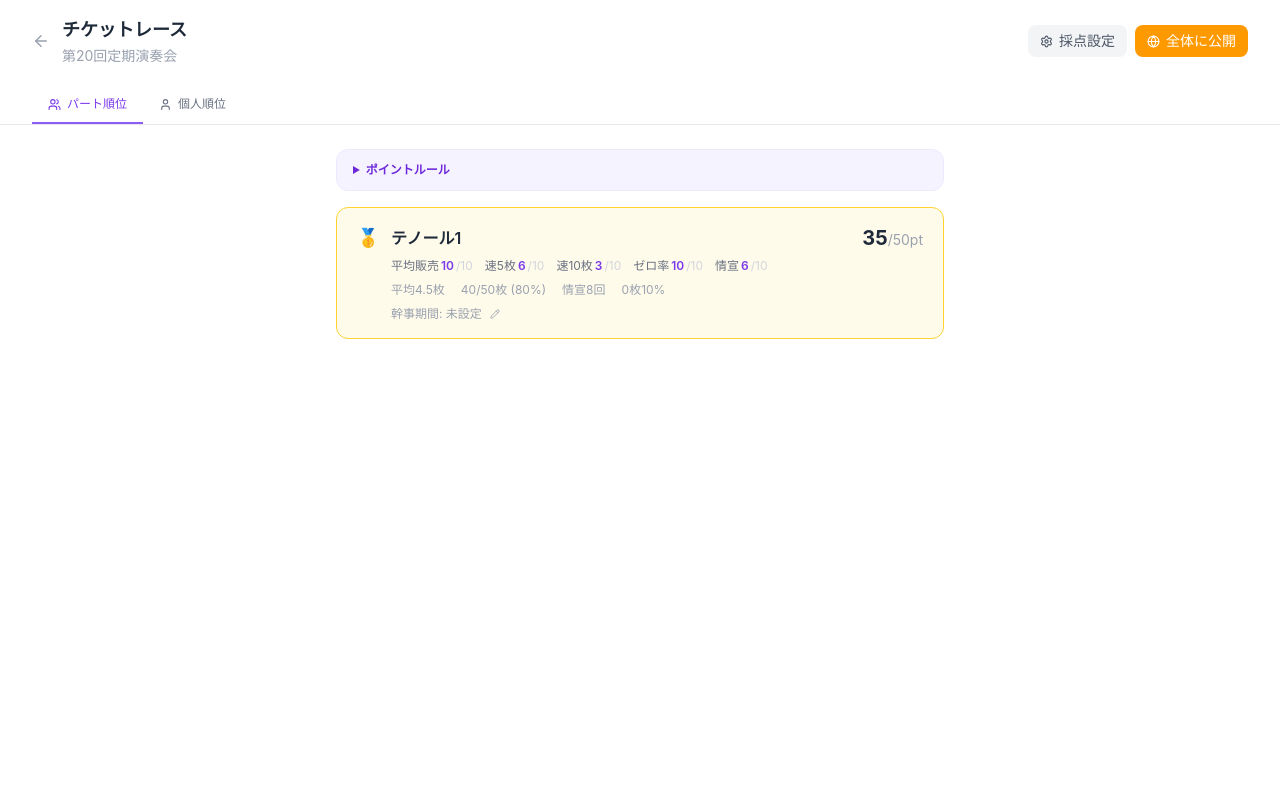
Test: RacePage（公開操作） › 確認でキャンセルするとpublishRaceを呼ばず未公開のまま
The width and height of the screenshot is (1280, 800).
Click the button "全体に公開". click: (1192, 41)
box: [1135, 25, 1248, 57]
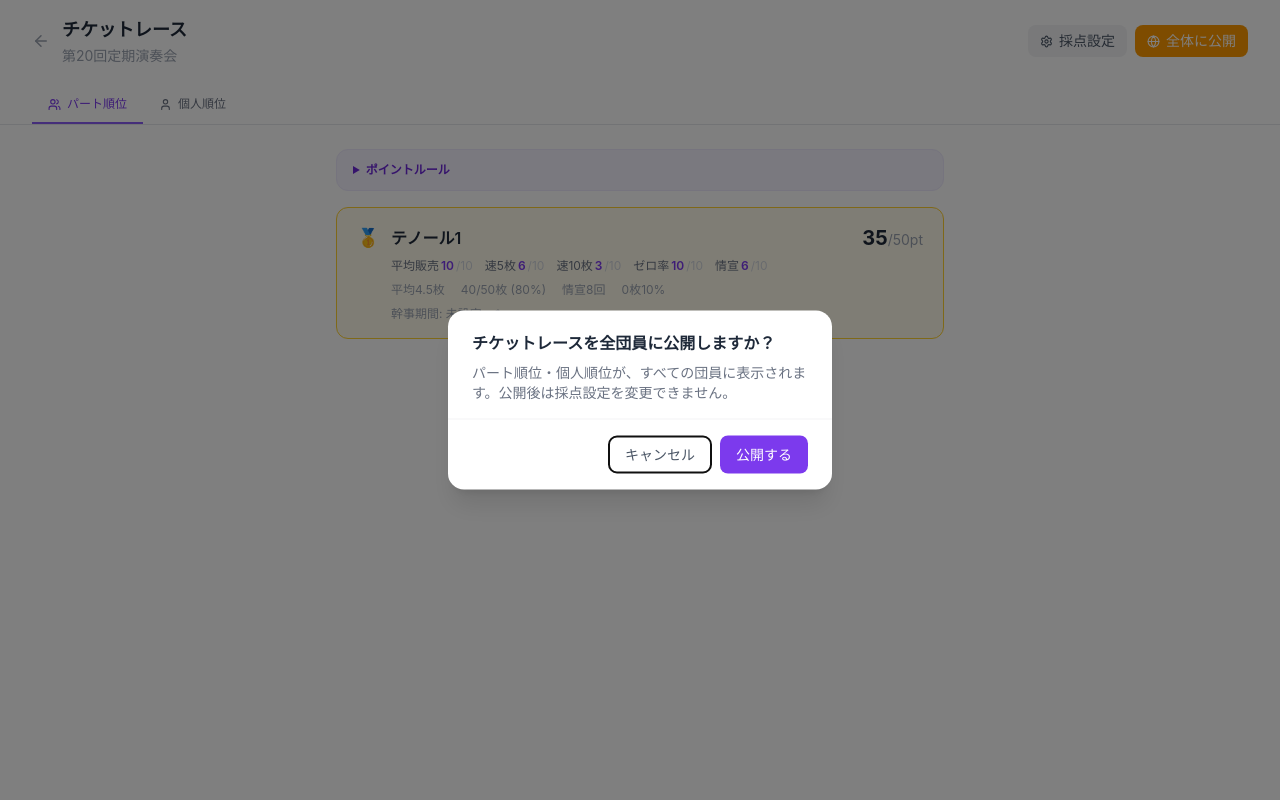
Click the button "キャンセル". click: (660, 454)
box: [608, 436, 712, 474]
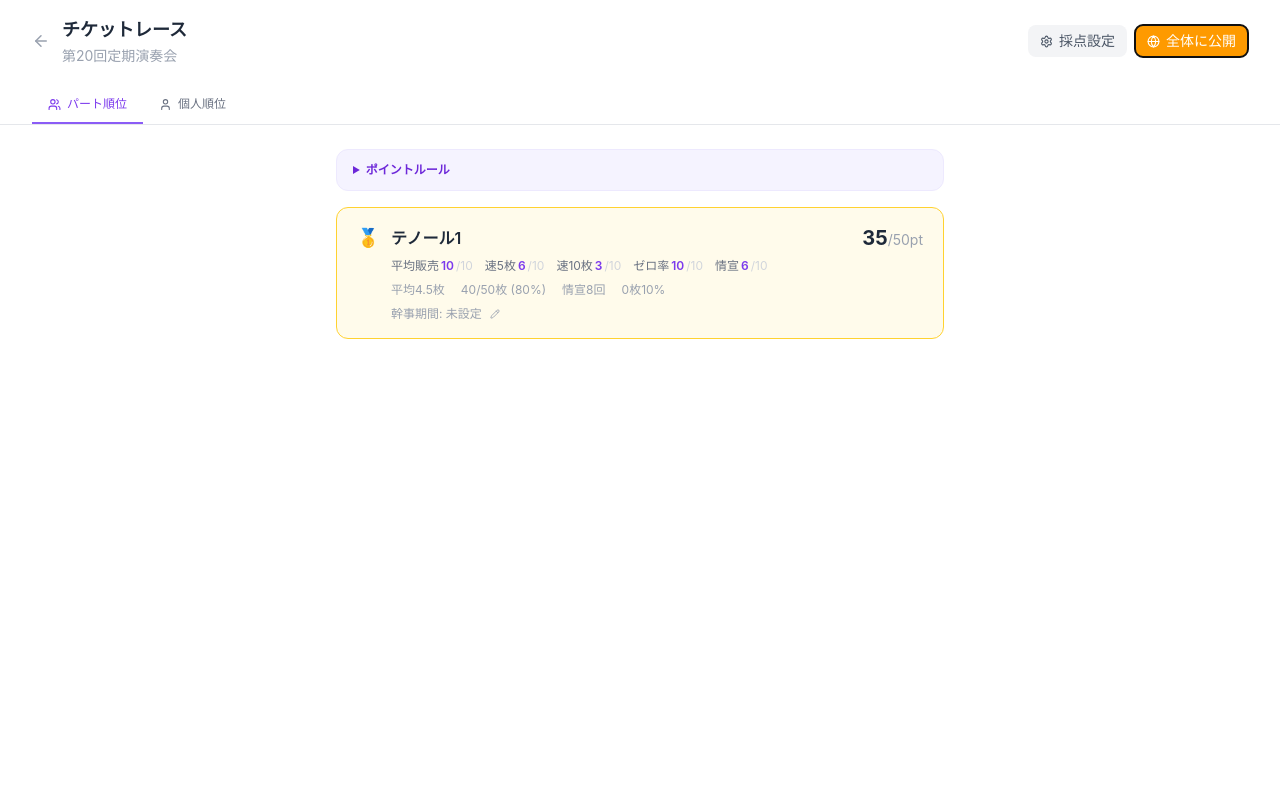
Expected: the button "全体に公開" is shown, [1135, 25, 1248, 57]
Expected: the dialog is gone
